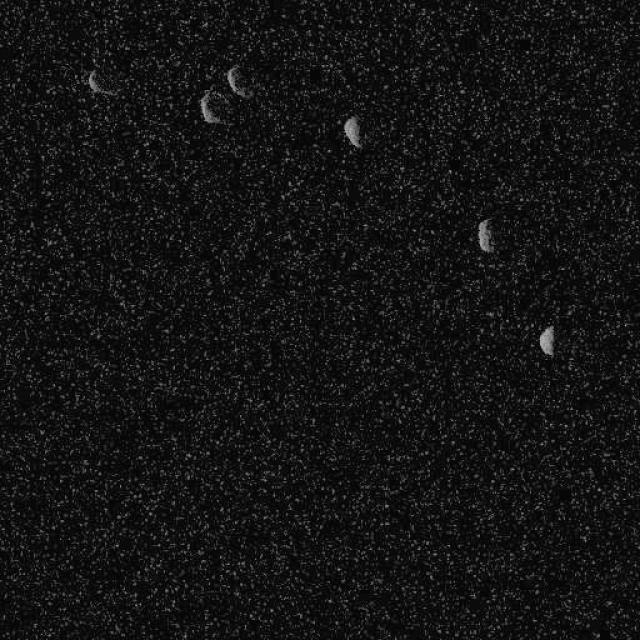D2: (198, 87, 230, 125), (225, 64, 254, 98), (85, 68, 117, 98), (476, 216, 495, 254), (342, 115, 362, 149), (537, 324, 555, 356)
